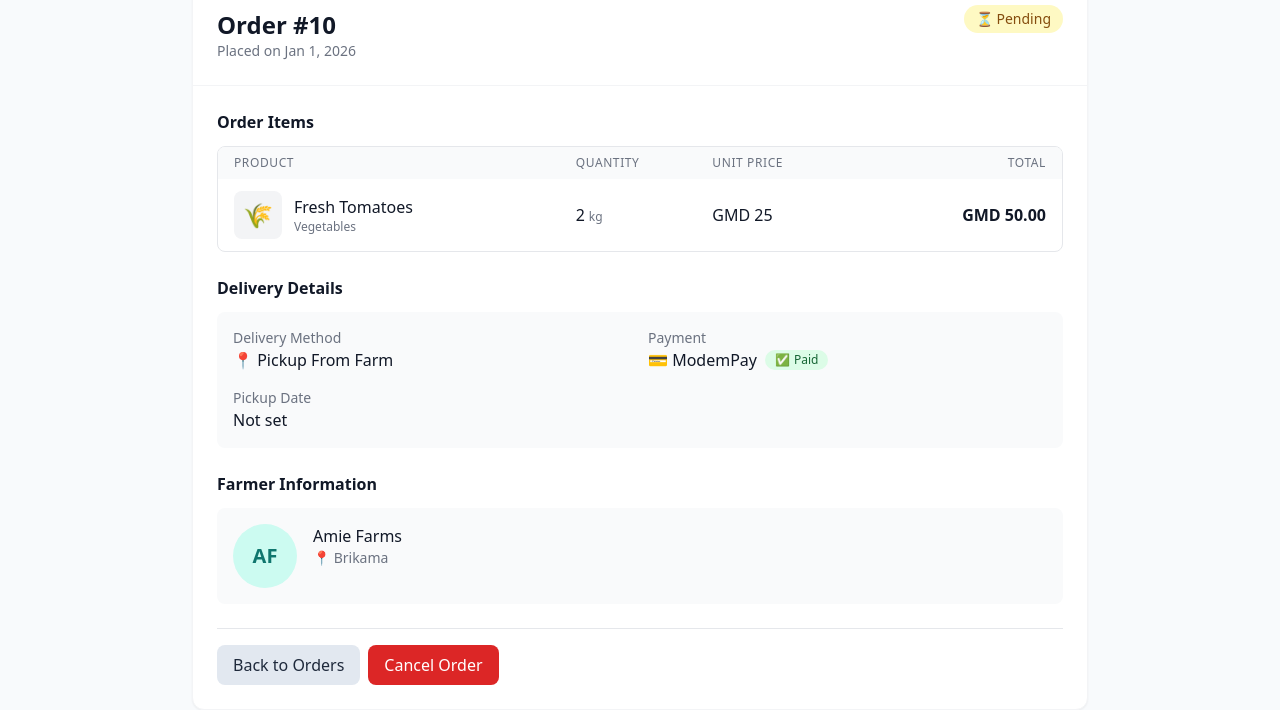
Test case: OrderDetailsPage › reports mutation failure without silently claiming success
This screenshot has width=1280, height=710.
(page scrolled)
Expected: the heading "Order #10" is shown, left=217, top=9, right=356, bottom=41
Click the button "Cancel Order" at (433, 665), box left=368, top=645, right=498, bottom=685
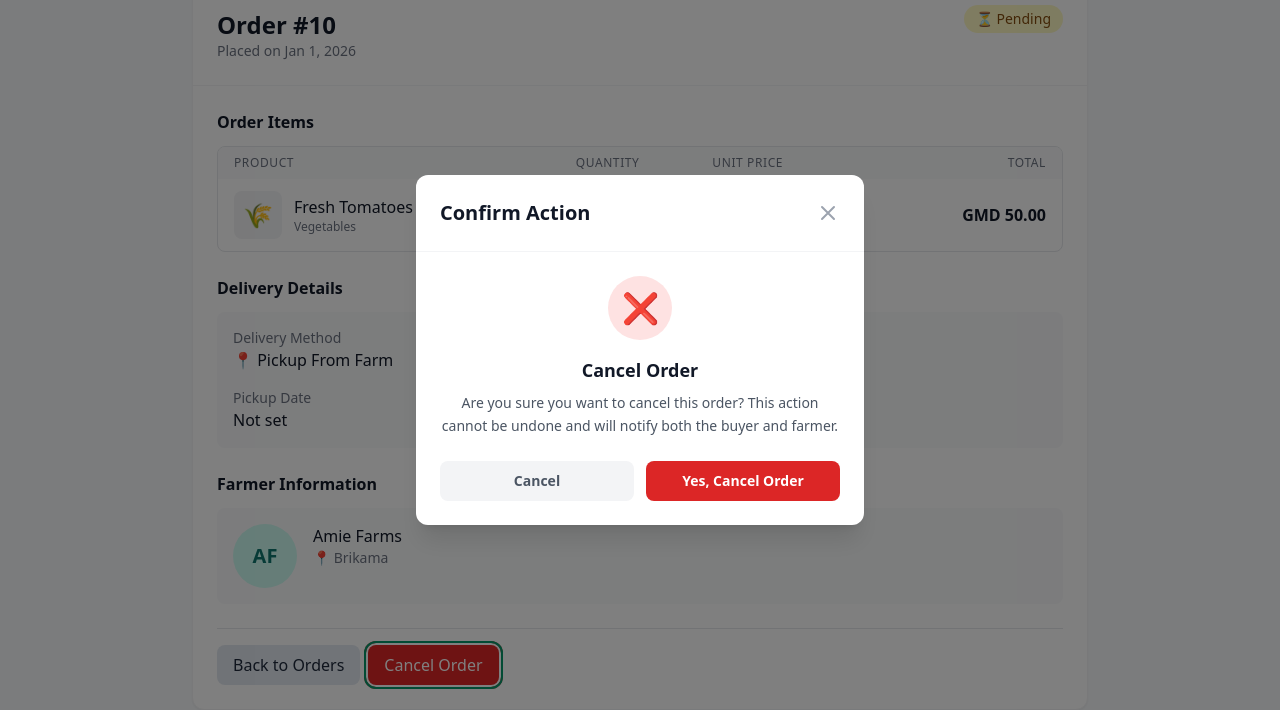
Click the button "Yes, Cancel Order" at (743, 481), box left=646, top=461, right=840, bottom=501
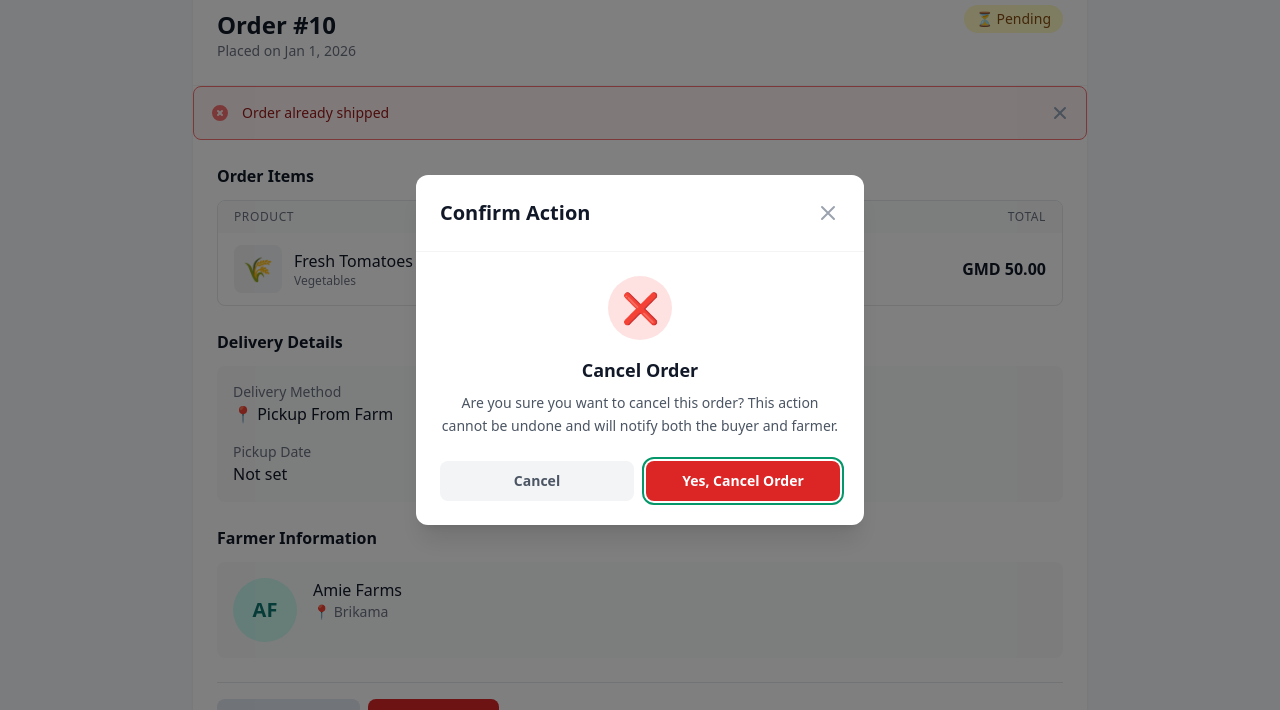
Expected: the text "Order already shipped" is shown, left=242, top=103, right=389, bottom=122
